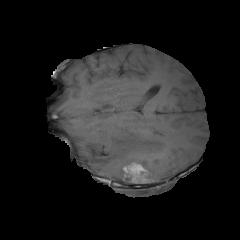glioma: (92, 124, 174, 182)
